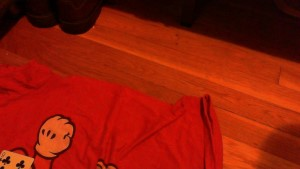NineOfClubs: (1, 148, 35, 169)
